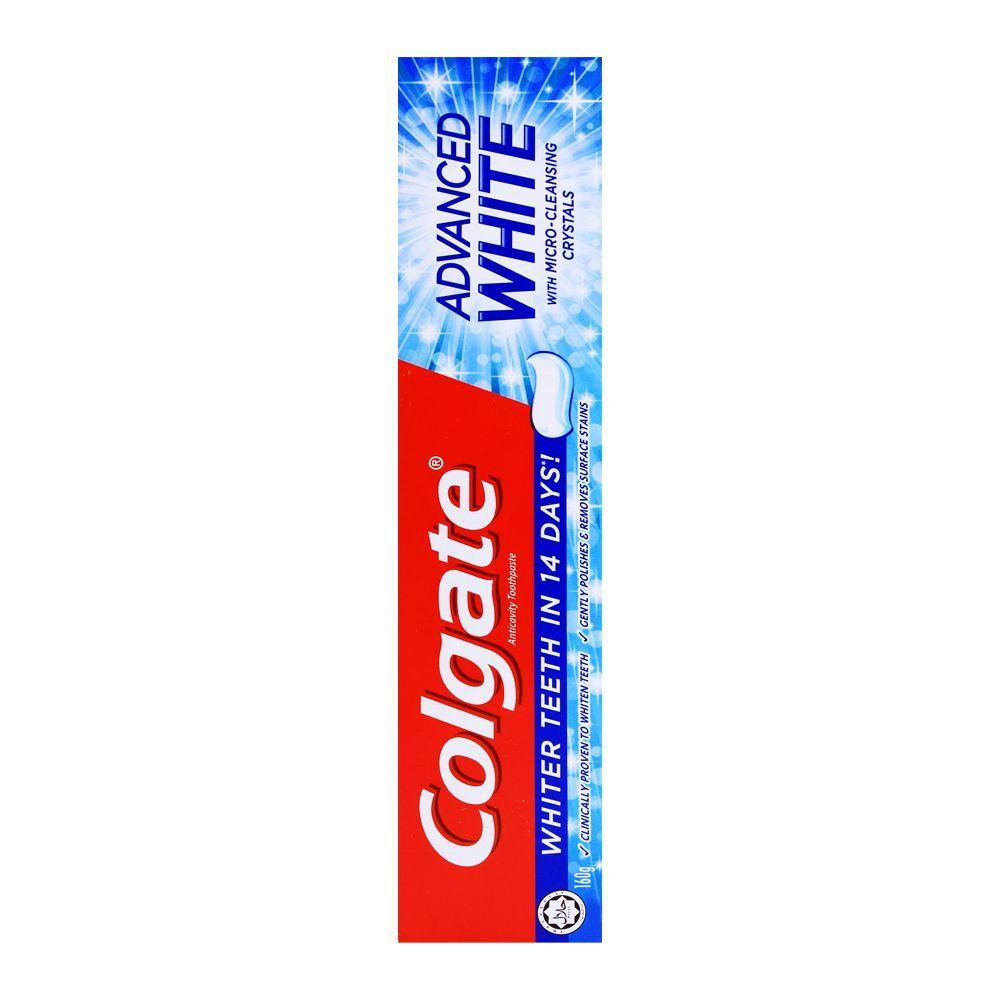toothpaste: (399, 53, 603, 943)
